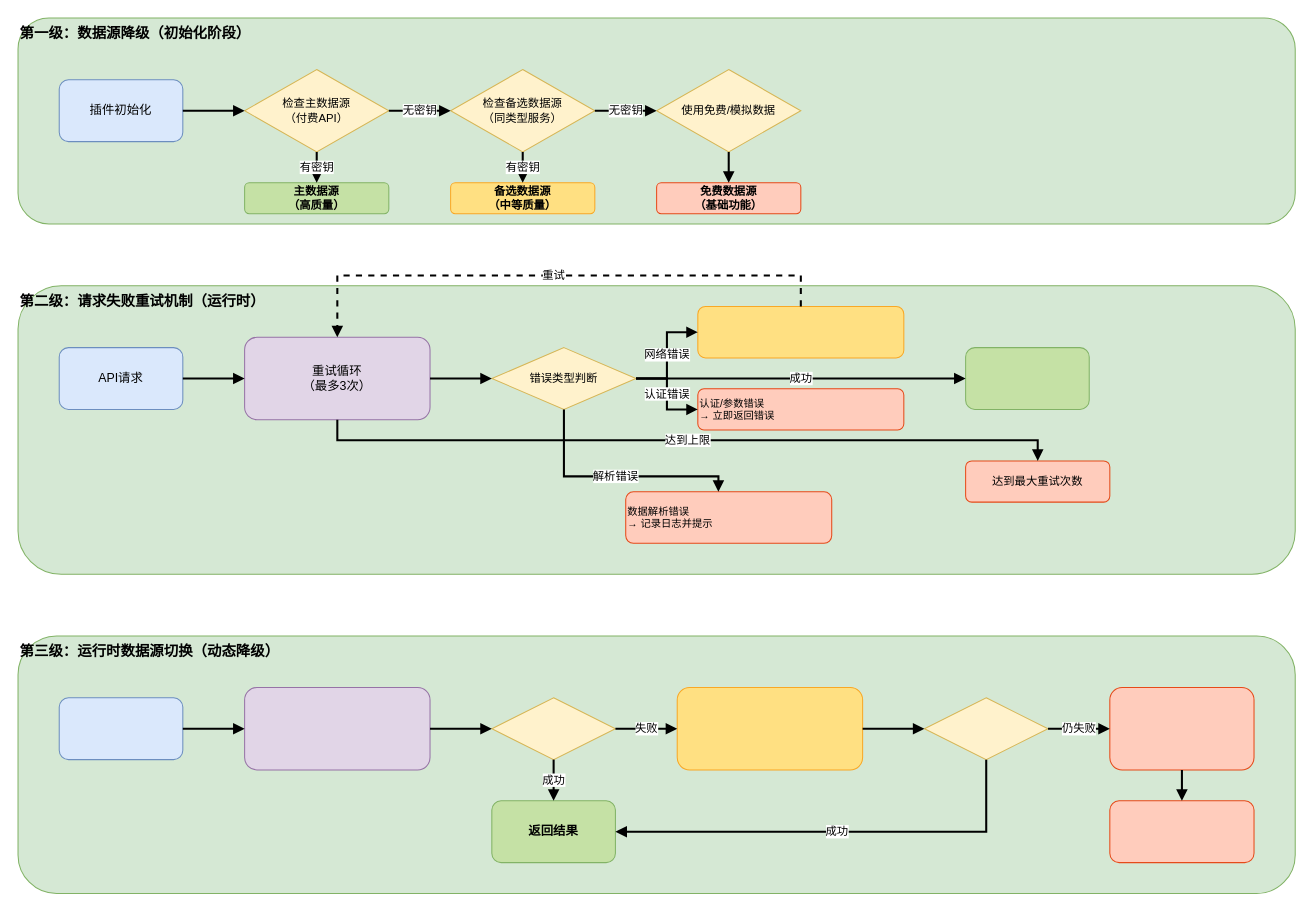
The diagram is 1313 pixels wide and 912 high, and some of its shapes have lost their labels. The shapes that lost their labels are listed below. From the top down, each one's centre as x and y in pixels, then its label:
the point at 800,331: 网络超时/连接错误 → 指数退避重试
the point at 1027,378: 请求成功
the point at 120,728: 插件执行
the point at 337,728: 尝试主数据源
the point at 553,728: 是否失败？
the point at 769,728: 降级到备用数据源
the point at 985,728: 是否仍失败？
the point at 1181,728: 降级到免费数据源
the point at 1181,831: 返回错误提示
